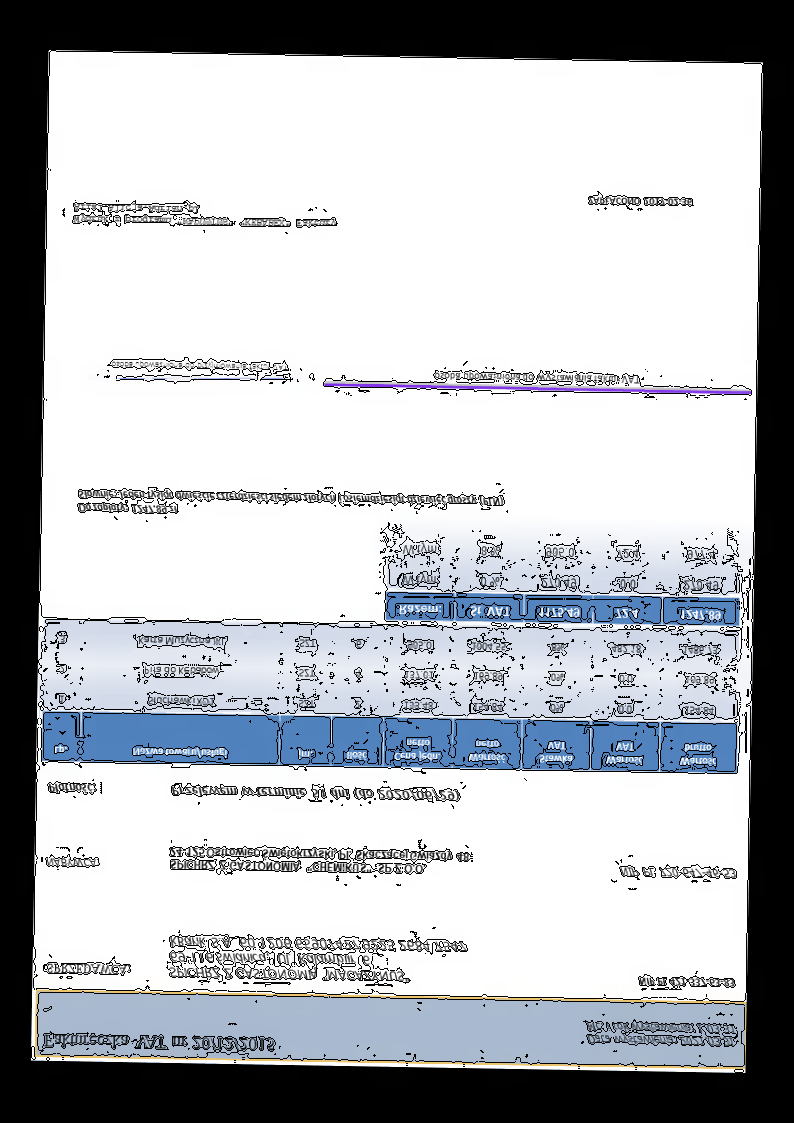Table: (40, 620, 740, 775), (384, 528, 742, 627)
TextBox: (165, 931, 470, 986), (76, 485, 504, 523), (166, 842, 471, 878), (70, 202, 339, 230), (42, 1031, 276, 1055), (170, 784, 461, 803), (585, 1018, 737, 1050), (432, 368, 642, 386), (110, 359, 290, 375), (617, 864, 737, 881), (636, 974, 737, 992), (585, 194, 693, 210), (43, 959, 133, 978), (45, 781, 97, 797), (44, 856, 101, 870)
